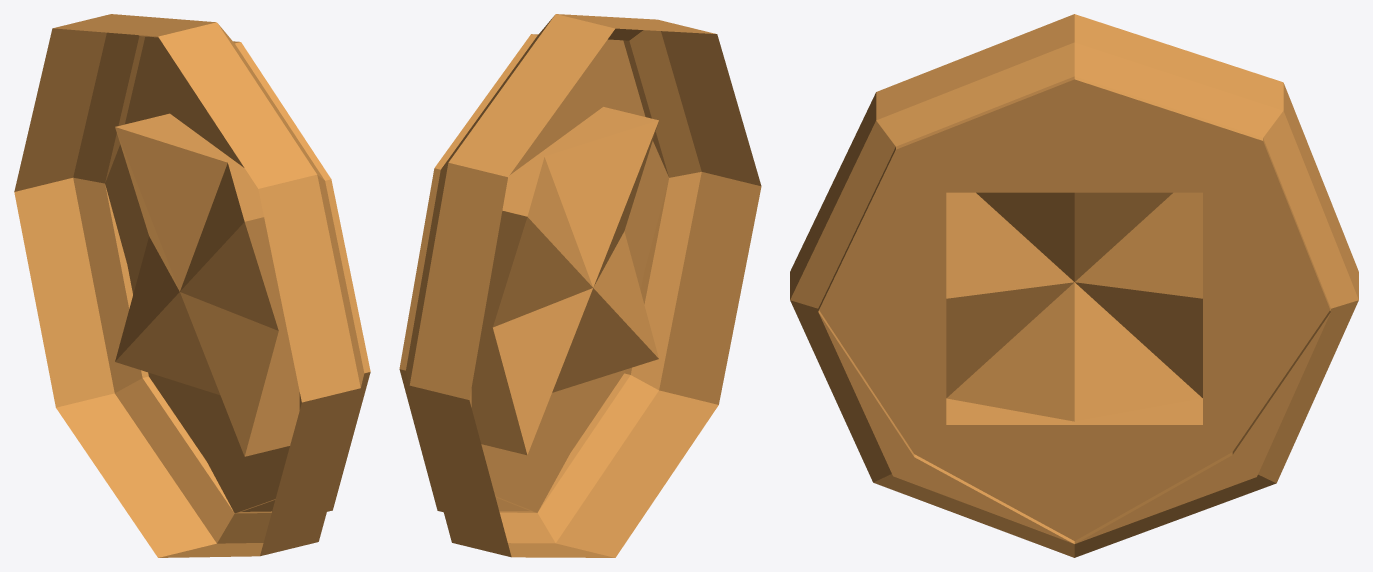
Rendered from coin .fbx.
3 renders of one model, left to right at view 1: azimuth 30°, elevation 25°; view 2: azimuth 150°, elevation 25°; view 3: azimuth 270°, elevation 25°, orthographic. The views are drawn at different scales.
Parts seen in each view (by area): view 1: Plane; view 2: Plane; view 3: Plane.
Boxes of the visible parts, x1=… form: Plane: x1=14, y1=14, x2=370, y2=557; Plane: x1=399, y1=14, x2=761, y2=557; Plane: x1=790, y1=14, x2=1358, y2=557.
Size of the model in its own units: 10 by 60 by 60.
